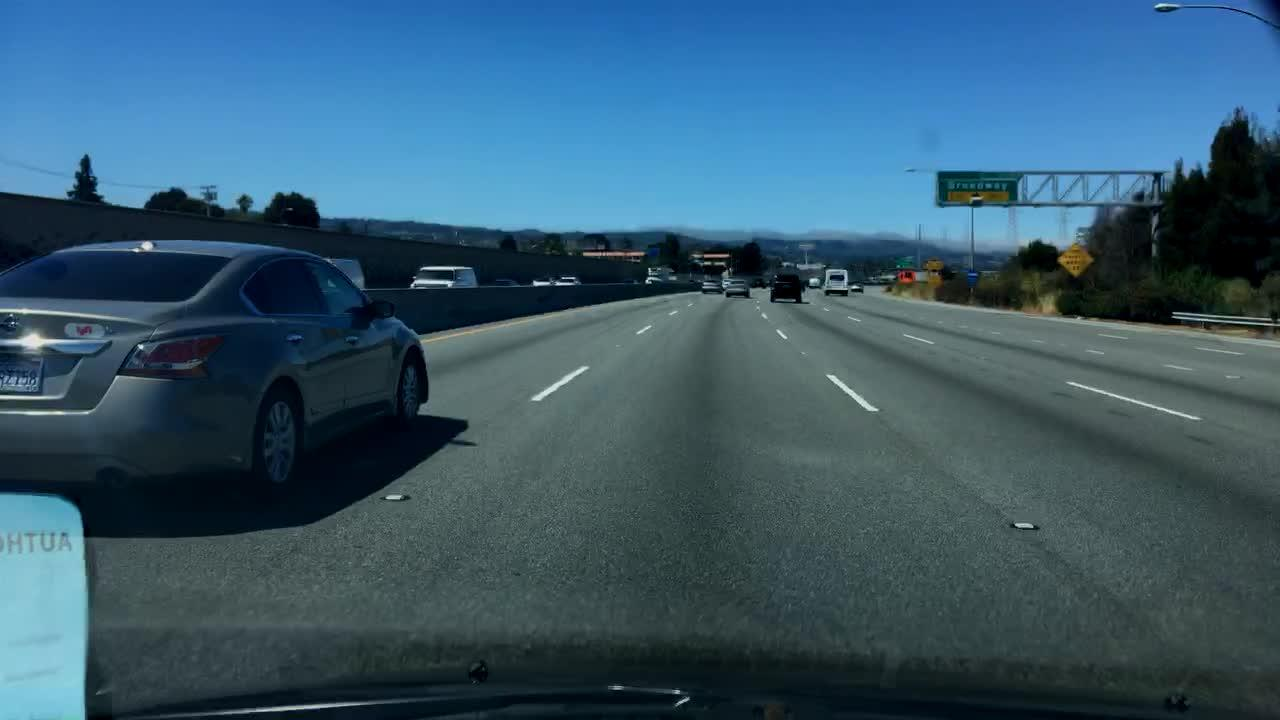Nissan: (0, 307, 25, 337)
